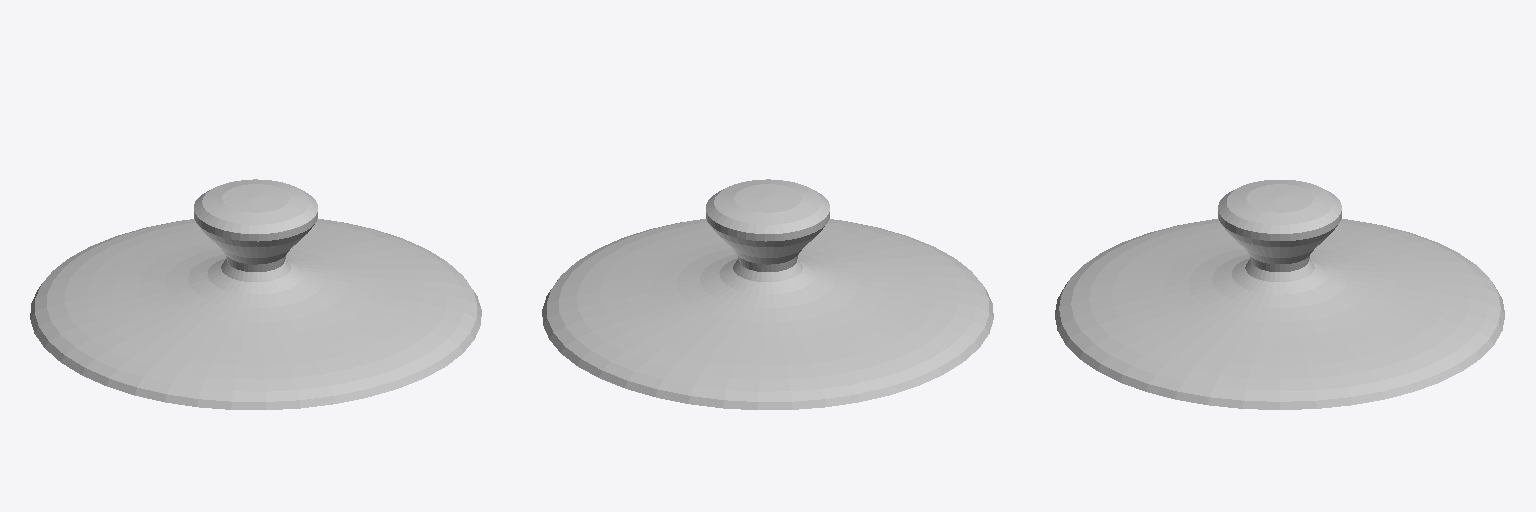
File: original-3.obj
3 renders of one model, left to right at view 1: azimuth 30°, elevation 25°; view 2: azimuth 150°, elevation 25°; view 3: azimuth 270°, elevation 25°, orthographic.
Visible parts, largest first — view 1: mesh4/mesh4-geometry#mesh4-geometry; view 2: mesh4/mesh4-geometry#mesh4-geometry; view 3: mesh4/mesh4-geometry#mesh4-geometry.
Part boxes in pixels (bbox=[...]): mesh4/mesh4-geometry#mesh4-geometry: bbox=[30, 179, 481, 409]; mesh4/mesh4-geometry#mesh4-geometry: bbox=[542, 179, 993, 409]; mesh4/mesh4-geometry#mesh4-geometry: bbox=[1055, 180, 1504, 409].
Bounding box in the file's own units: 0.776 × 0.2239 × 0.776.